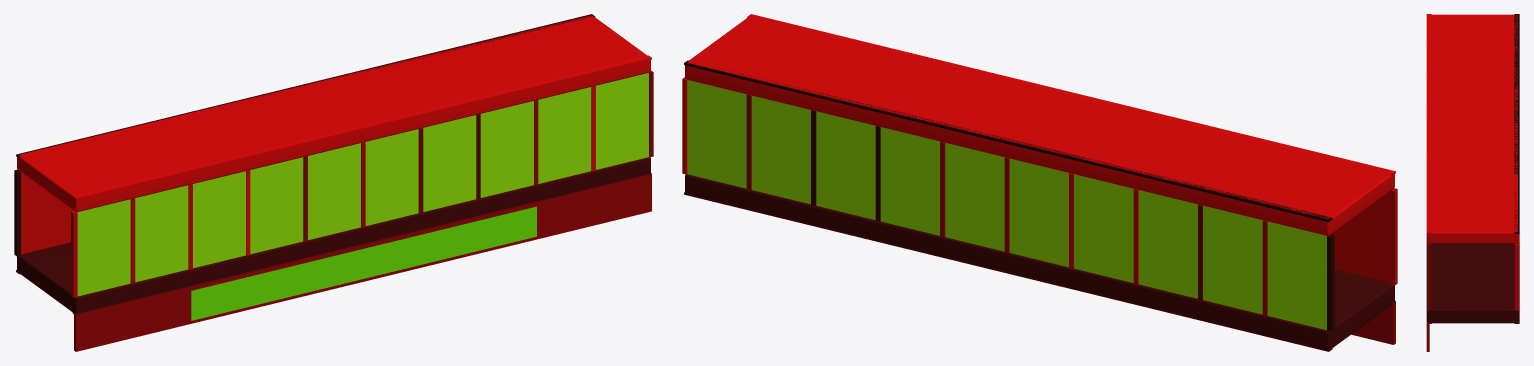
The model's file is skybridge.glb.
3 renders of one model, left to right at view 1: azimuth 30°, elevation 25°; view 2: azimuth 150°, elevation 25°; view 3: azimuth 270°, elevation 25°, orthographic. The views are drawn at different scales.
Parts seen in each view (by area): view 1: skybridge; view 2: skybridge; view 3: skybridge.
Part boxes in pixels (<box>): skybridge: <box>14,14,653,351</box>; skybridge: <box>682,14,1397,351</box>; skybridge: <box>1426,14,1519,351</box>.
Bounding box in the file's own units: 20.14 × 5.1 × 3.61.
